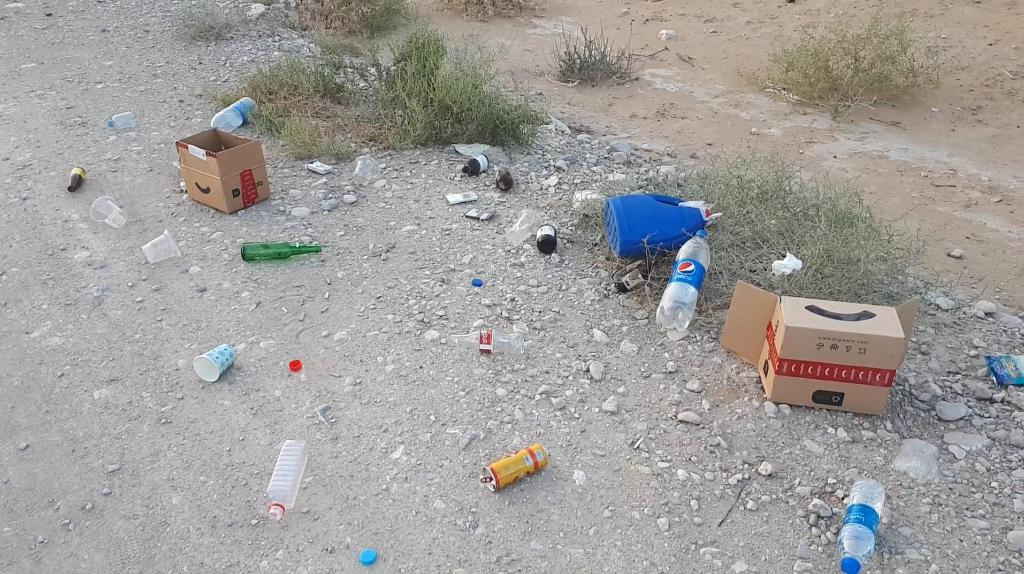garbage: (726, 268, 936, 429), (163, 121, 284, 221), (817, 455, 908, 574), (595, 184, 729, 262), (469, 423, 557, 509), (604, 194, 712, 257), (665, 217, 714, 348), (261, 427, 321, 531), (654, 229, 710, 332), (837, 478, 886, 574), (184, 333, 248, 392), (444, 321, 538, 361), (457, 145, 520, 203), (265, 440, 308, 520), (480, 444, 548, 492), (601, 249, 666, 297), (203, 90, 267, 134), (51, 158, 101, 200), (520, 224, 578, 259), (451, 329, 524, 354), (102, 108, 148, 147), (210, 96, 258, 133), (611, 255, 658, 292), (241, 241, 322, 261), (536, 224, 556, 253), (462, 154, 489, 174), (67, 167, 86, 192), (495, 165, 513, 190), (108, 112, 135, 128)
